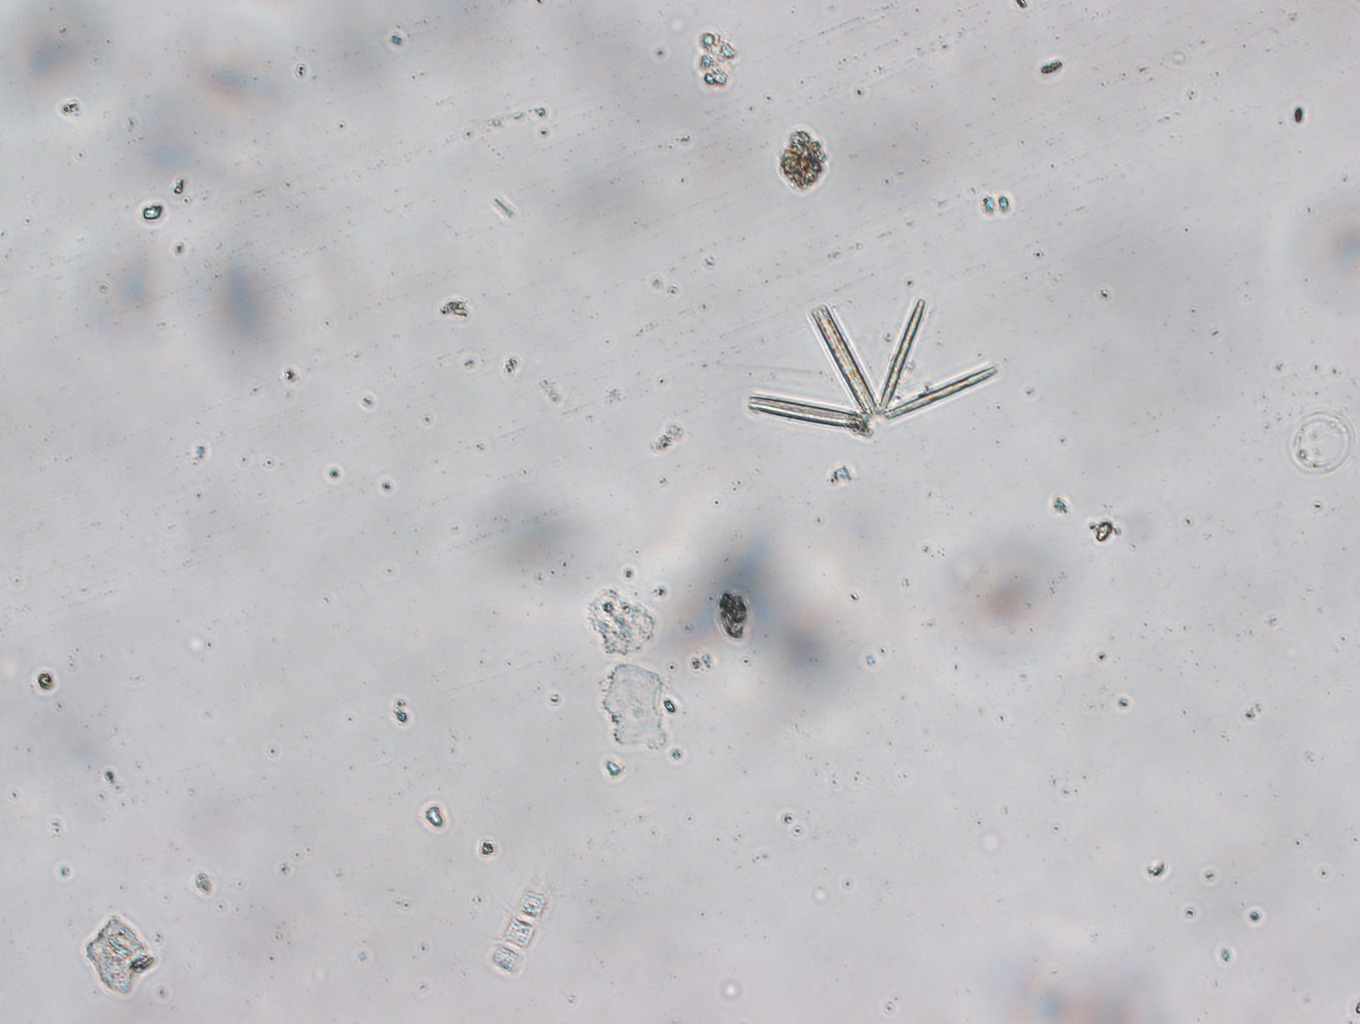thalassionema nitzschioides: (746, 295, 997, 433)
